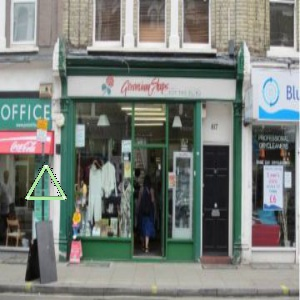triangle: (24, 162, 70, 203)
